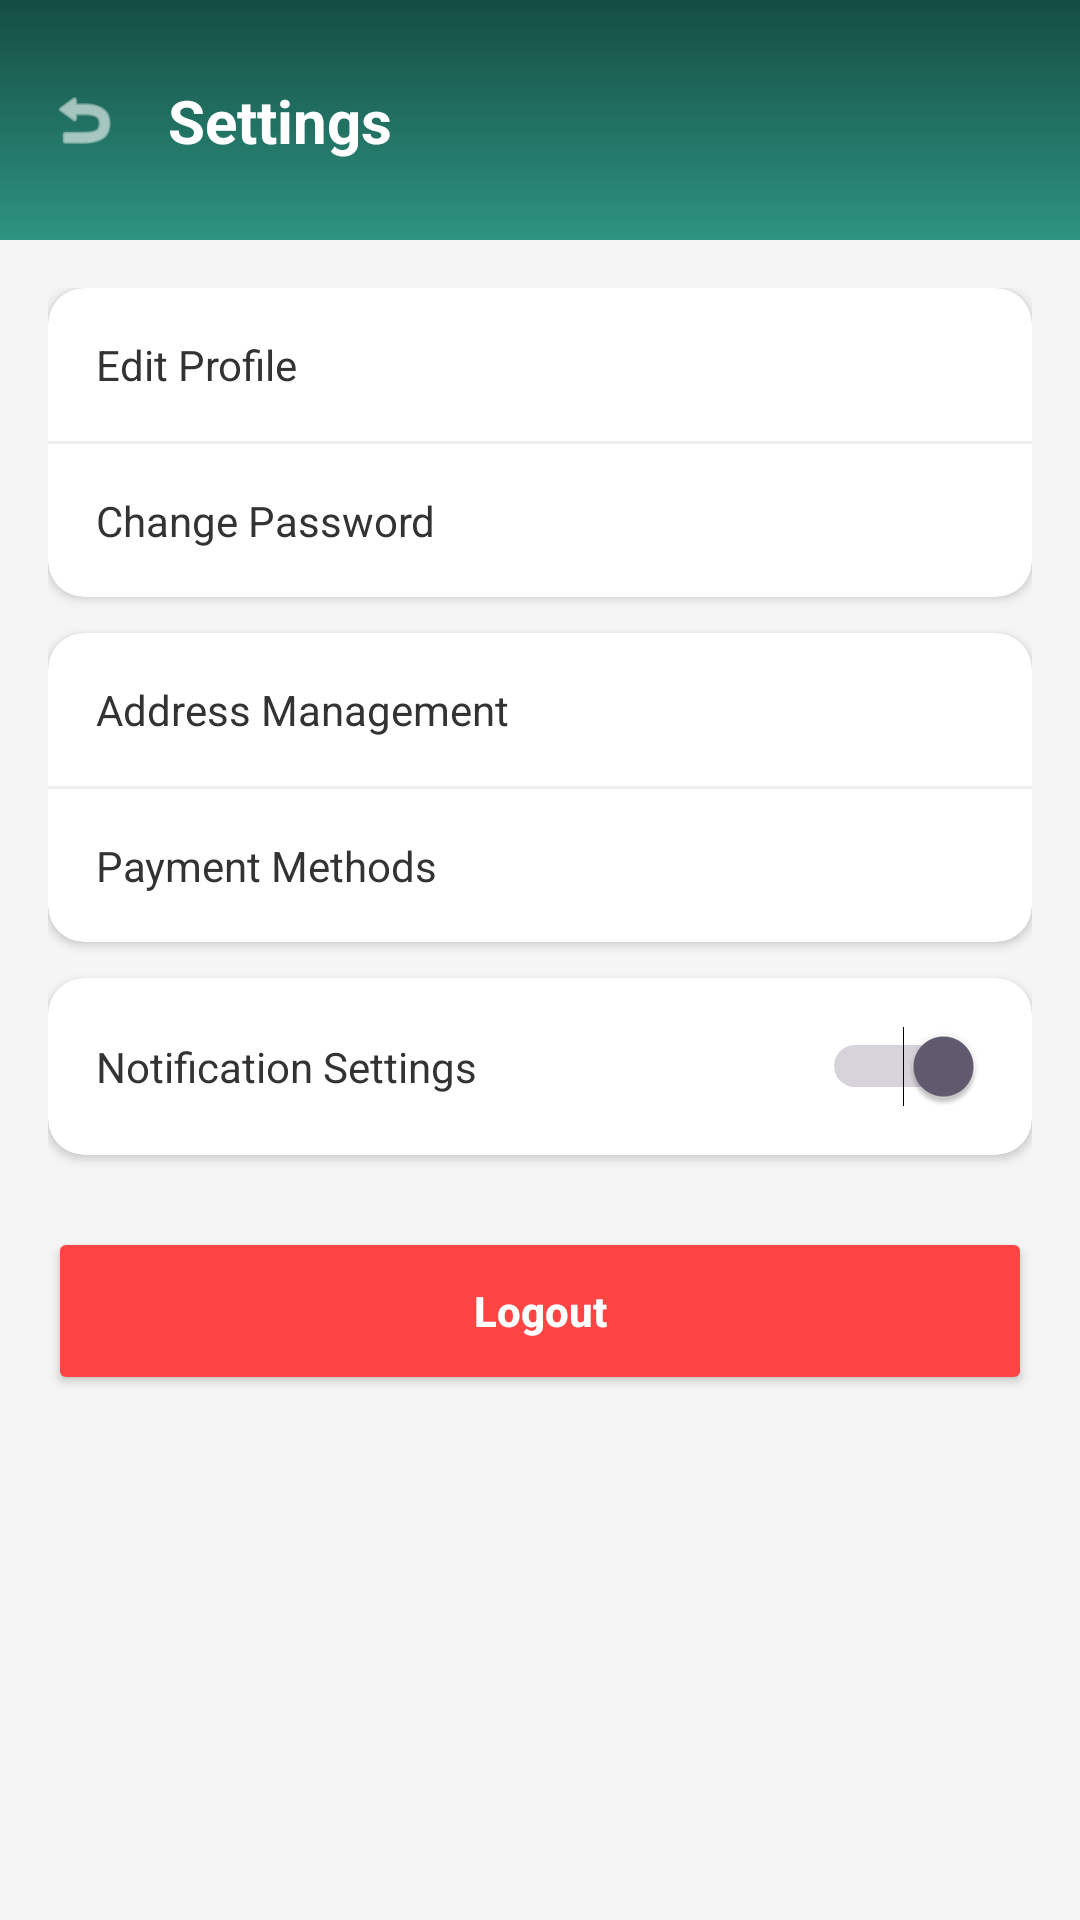

Icons on this 1080px×1920px Android screen, each with its box as (x1, y1, x2, y2):
Back: (59, 97, 111, 144)
